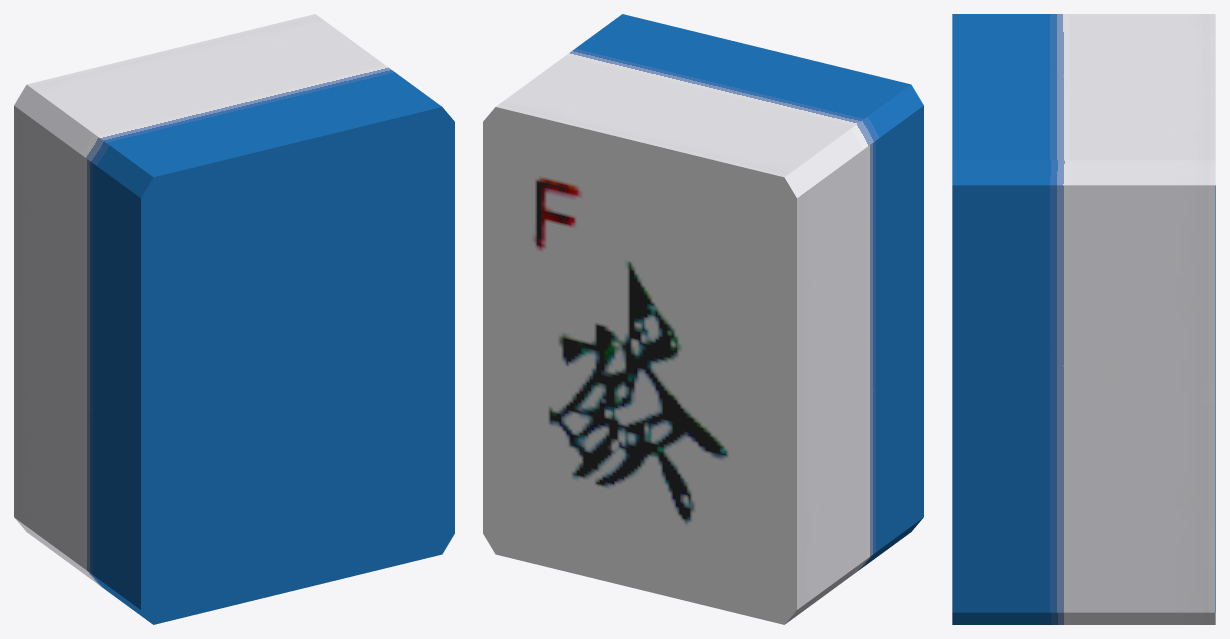
File: mahjong_tile_32.glb
3 renders of one model, left to right at view 1: azimuth 30°, elevation 25°; view 2: azimuth 150°, elevation 25°; view 3: azimuth 270°, elevation 25°, orthographic. The views are drawn at different scales.
Visible parts, largest first — view 1: Cube; view 2: Cube; view 3: Cube.
Part boxes in pixels (x1,y1,x2,y2): Cube: (14,14,454,624); Cube: (483,14,923,624); Cube: (952,14,1215,624).
Size of the model in its own units: 1 by 1.36 by 0.7.
2 materials, 2 textured.
